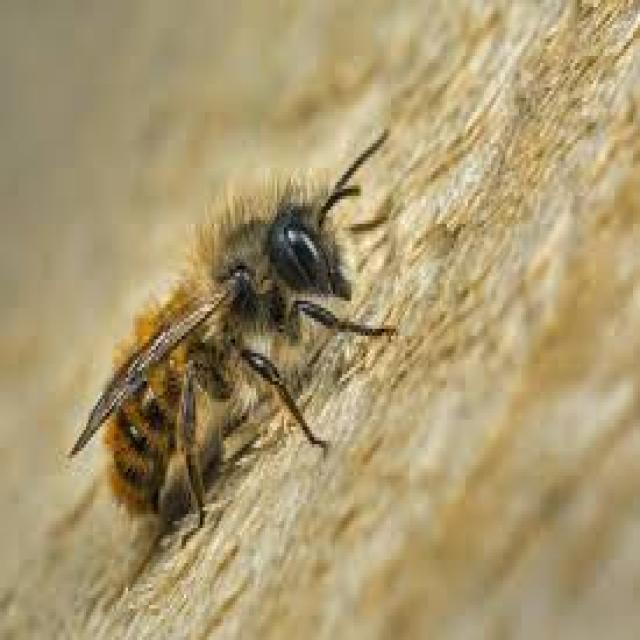Bees: (68, 139, 397, 540)
